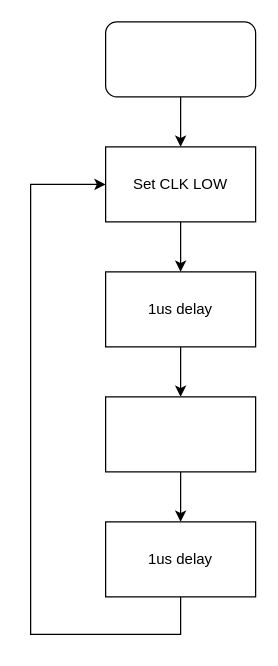
This 278x666 diagram has some shape labels left out. The centre of each missing label's shape, as x and y in pixels:
SEG_CLK_2us: (180,59)
Set CLK HIGH: (180,434)
